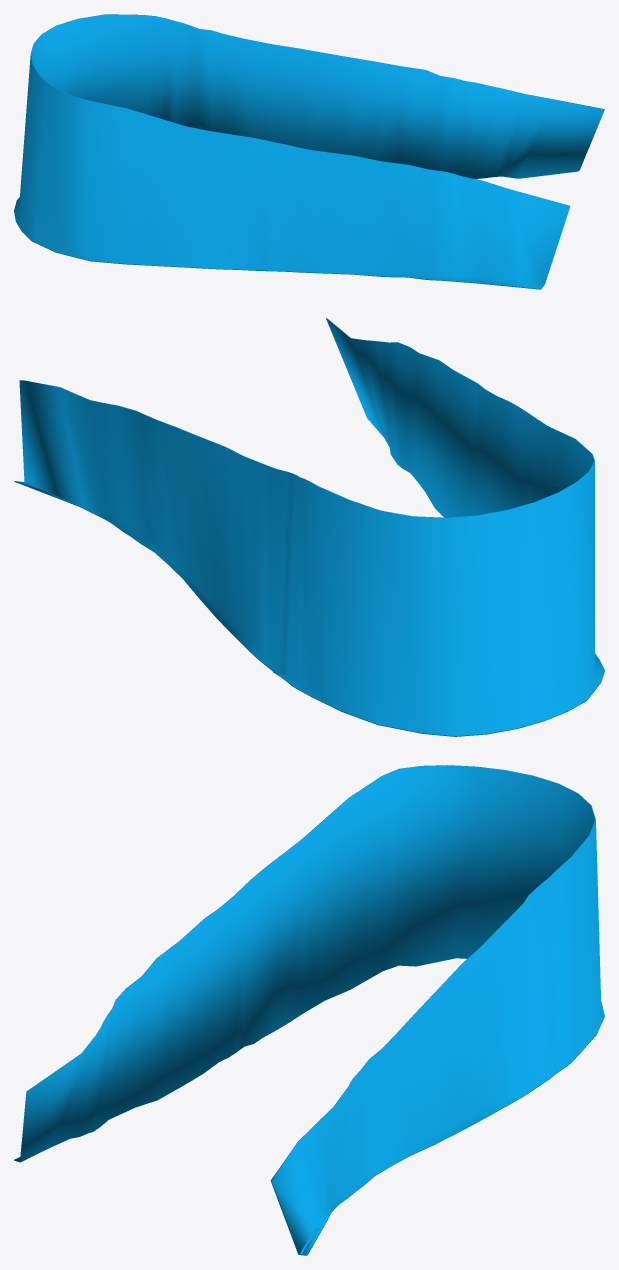
The model's file is RearRightBlue.obj.
3 views of the same model, one above another, from view 1: azimuth 30°, elevation 25°; view 2: azimuth 150°, elevation 25°; view 3: azimuth 270°, elevation 25° (orthographic). The views are drawn at different scales.
Parts seen in each view (by area): view 1: BezierCurveC_CUBezierCurve.004; view 2: BezierCurveC_CUBezierCurve.004; view 3: BezierCurveC_CUBezierCurve.004.
Part boxes in pixels (box(x1,y1,x2,y2)): BezierCurveC_CUBezierCurve.004: box(14, 14, 604, 289); BezierCurveC_CUBezierCurve.004: box(14, 318, 604, 736); BezierCurveC_CUBezierCurve.004: box(14, 765, 604, 1255).
Size of the model in its own units: 15.71 by 4.9 by 12.81.
Materials: 1 (1 with a texture image).
